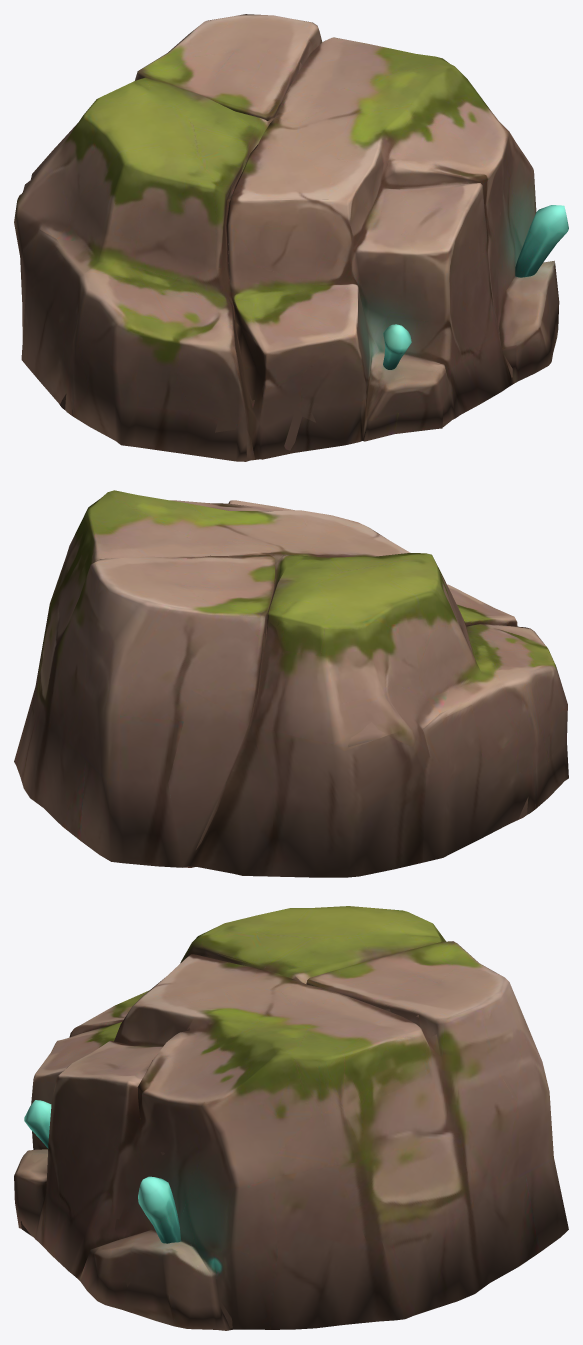
File: boulder.glb
3 renders of one model, top to bottom at view 1: azimuth 30°, elevation 25°; view 2: azimuth 150°, elevation 25°; view 3: azimuth 270°, elevation 25°, orthographic. The views are drawn at different scales.
Visible parts, largest first — view 1: boulder; view 2: boulder; view 3: boulder.
Part boxes in pixels (x1,y1,x2,y2): boulder: (14,14,568,461); boulder: (14,490,568,877); boulder: (14,906,568,1330).
Bounding box in the file's own units: 2.16 × 1.08 × 2.15.
Materials: 1 (1 with a texture image).
